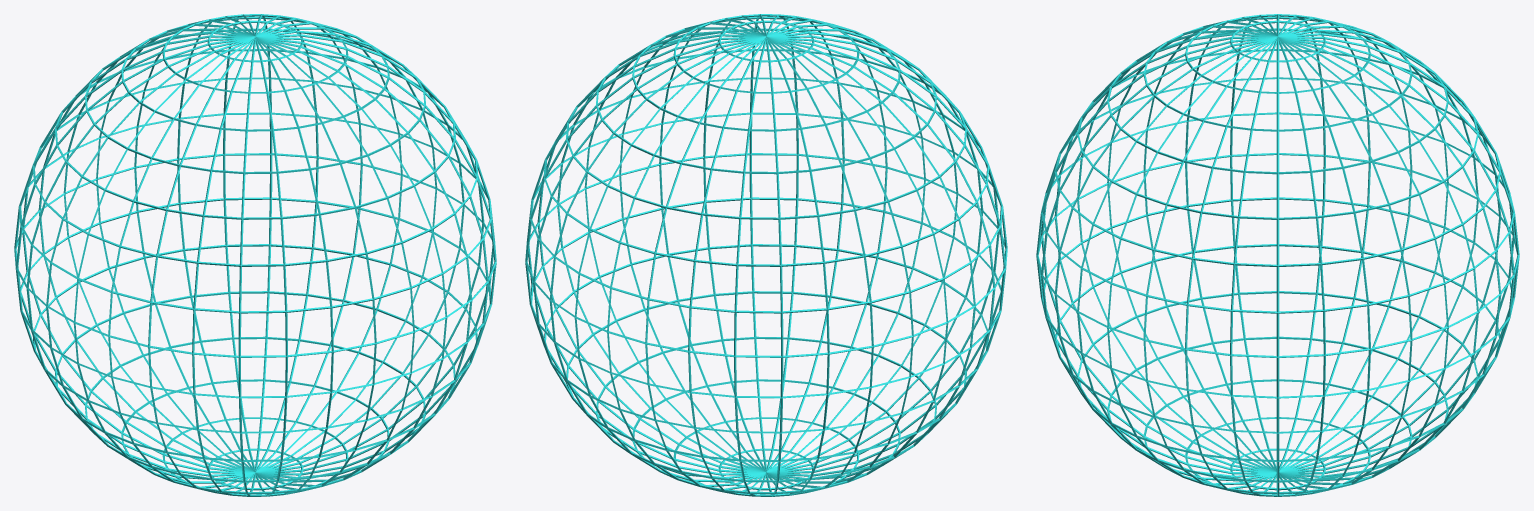
Rendered from spherew.gltf.
The picture shows the model from 3 angles, left to right: view 1: azimuth 30°, elevation 25°; view 2: azimuth 150°, elevation 25°; view 3: azimuth 270°, elevation 25°; orthographic projection.
Visible parts, largest first — view 1: Sphere; view 2: Sphere; view 3: Sphere.
Boxes of the visible parts, bbox=[...] form: Sphere: bbox=[14, 14, 496, 496]; Sphere: bbox=[525, 14, 1007, 496]; Sphere: bbox=[1036, 14, 1519, 496].
Size of the model in its own units: 151 by 151 by 151.
